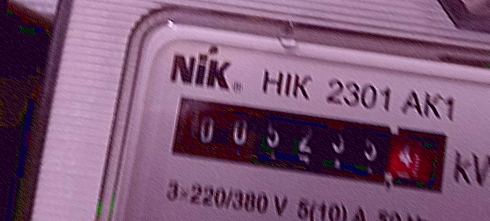0: (228, 111, 253, 147), (196, 110, 219, 144)
2: (294, 118, 320, 155)
3: (326, 121, 355, 157)
4: (394, 132, 421, 171)
5: (359, 125, 386, 164), (262, 114, 286, 150)
screen: (154, 76, 465, 208)
